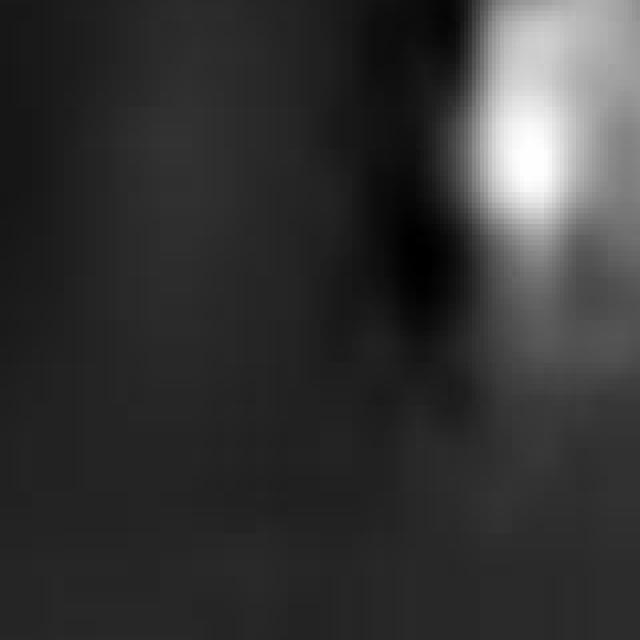person: (445, 1, 640, 422)
